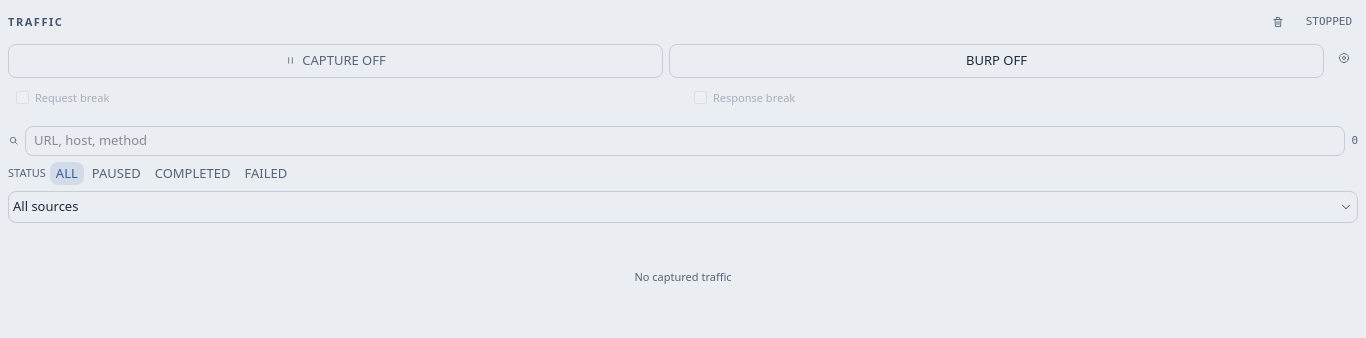
Scenario: TrafficSidebar › confirms and clears all local Traffic history
Click the button named "Clear Traffic history" at point(1278, 22), box [1264,8,1292,36]
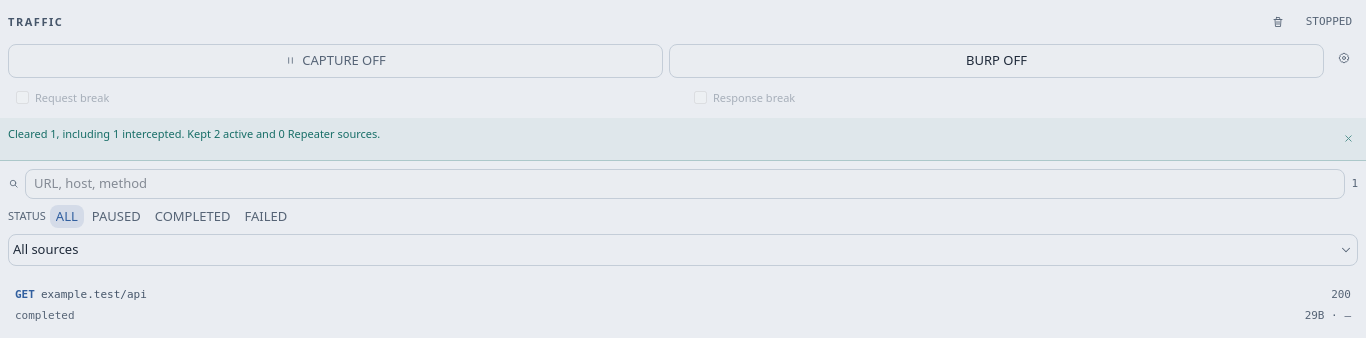
Expected: the text "including 1 intercepted" is shown, [8,126,380,141]
